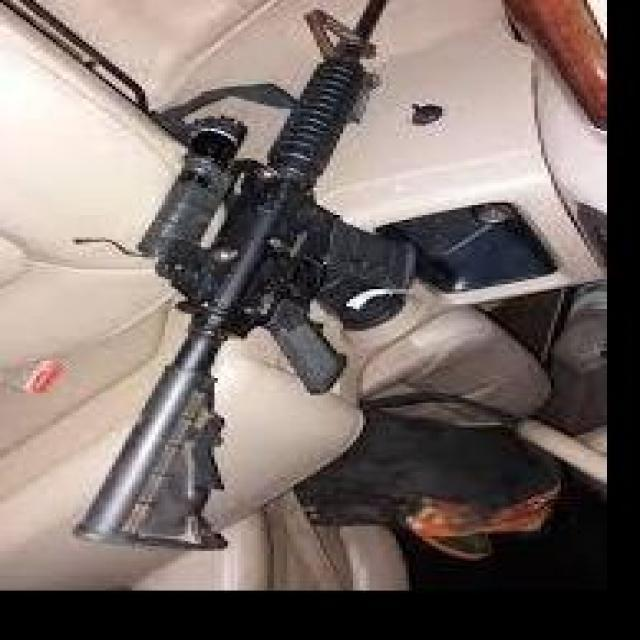weapon: (73, 0, 419, 553)
